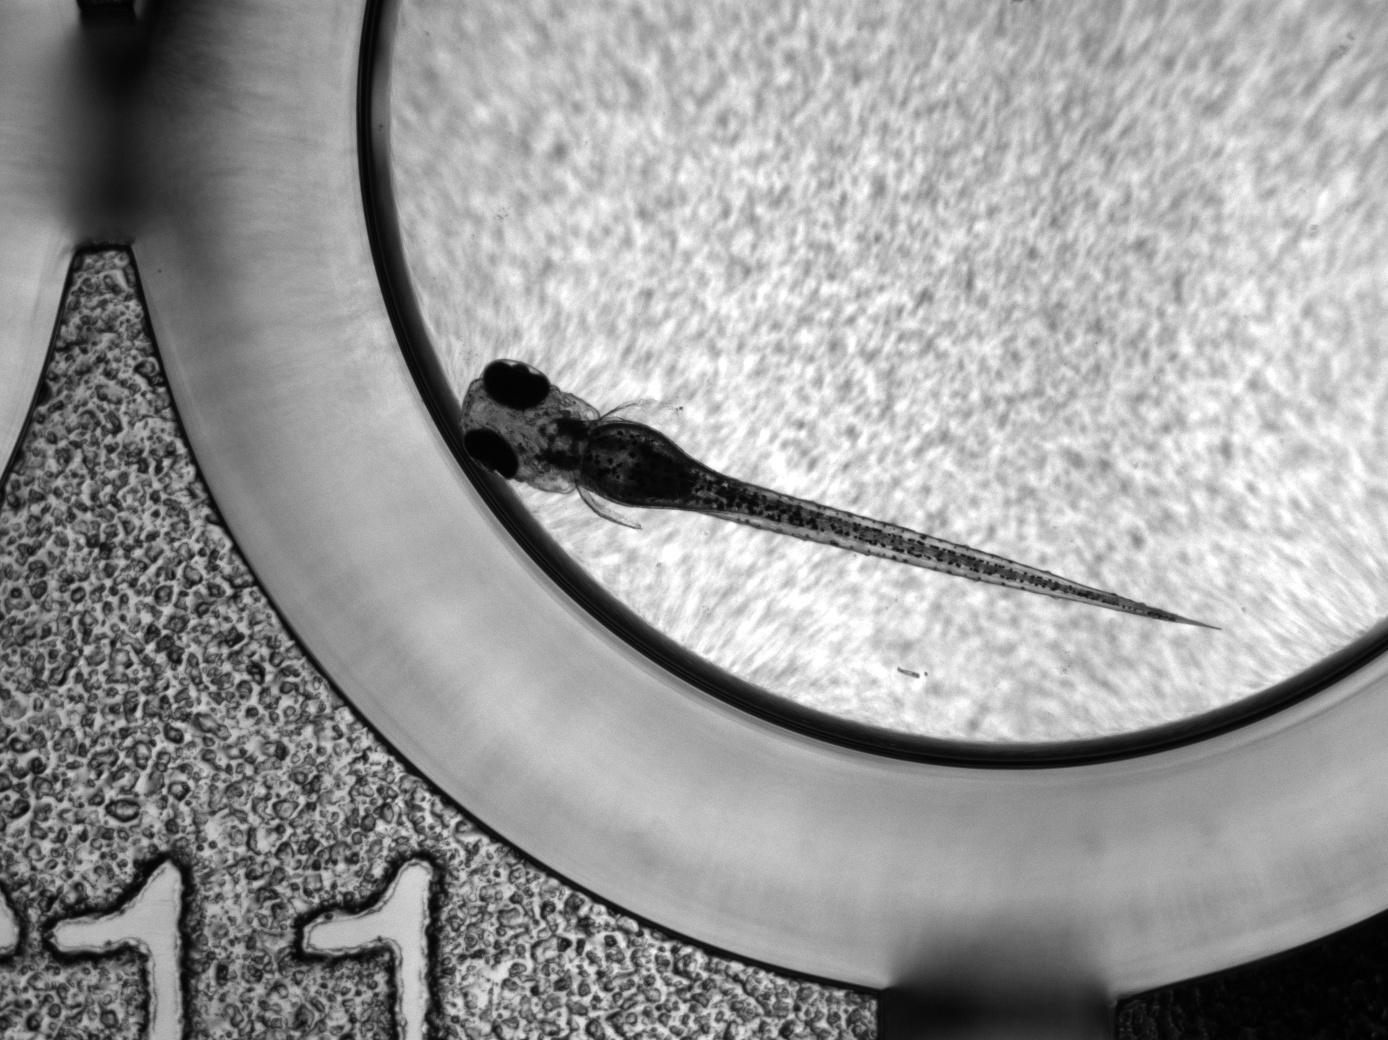embryo: (461, 358, 1227, 635)
eye: (481, 359, 551, 410), (464, 426, 519, 481)
yolksac: (584, 421, 695, 509)
